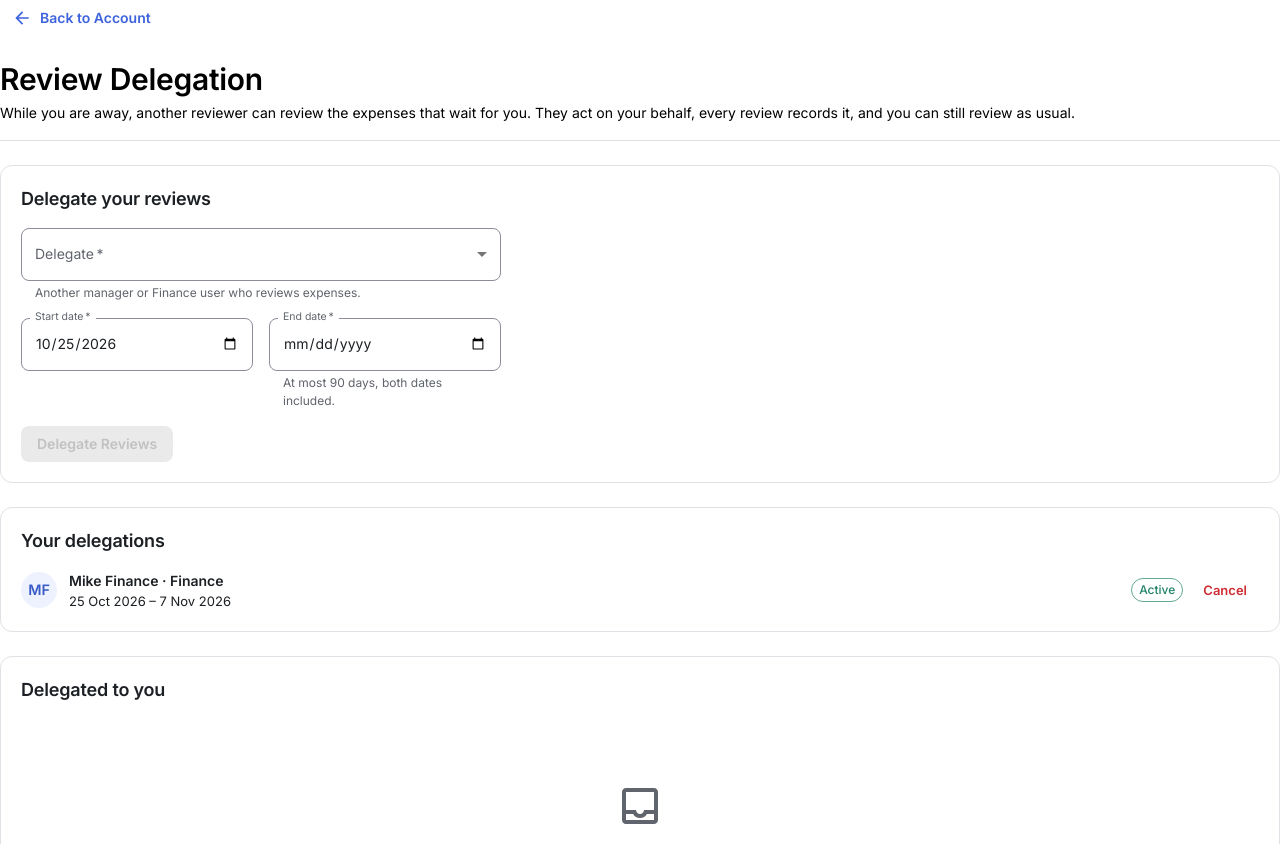
Scenario: ReviewDelegationPage › cancels a delegation after a destructive confirmation
Expected: the dropdown named "Delegate" is shown, [21,228,501,281]
What coordinates should you click on to do the following:
click the button "Cancel"
I would click on:
 (1225, 590)
Its box is [1191,575,1259,606].
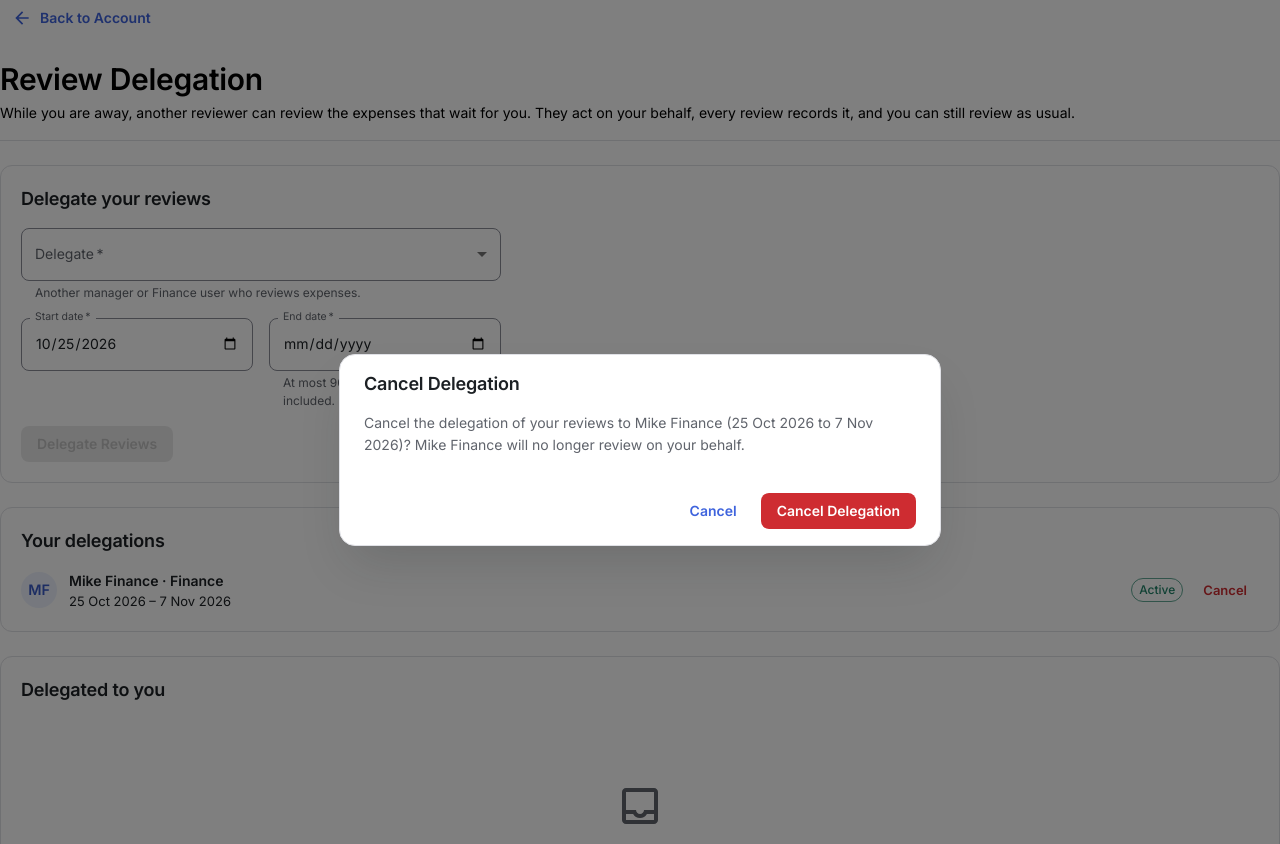
Result: the dialog "Cancel Delegation" shows "Mike Finance will no longer review on your behalf." at [364,414,873,453]
What coordinates should you click on to do the following:
click the button "Cancel Delegation"
I would click on:
 (838, 511)
Its box is [761,493,916,529].
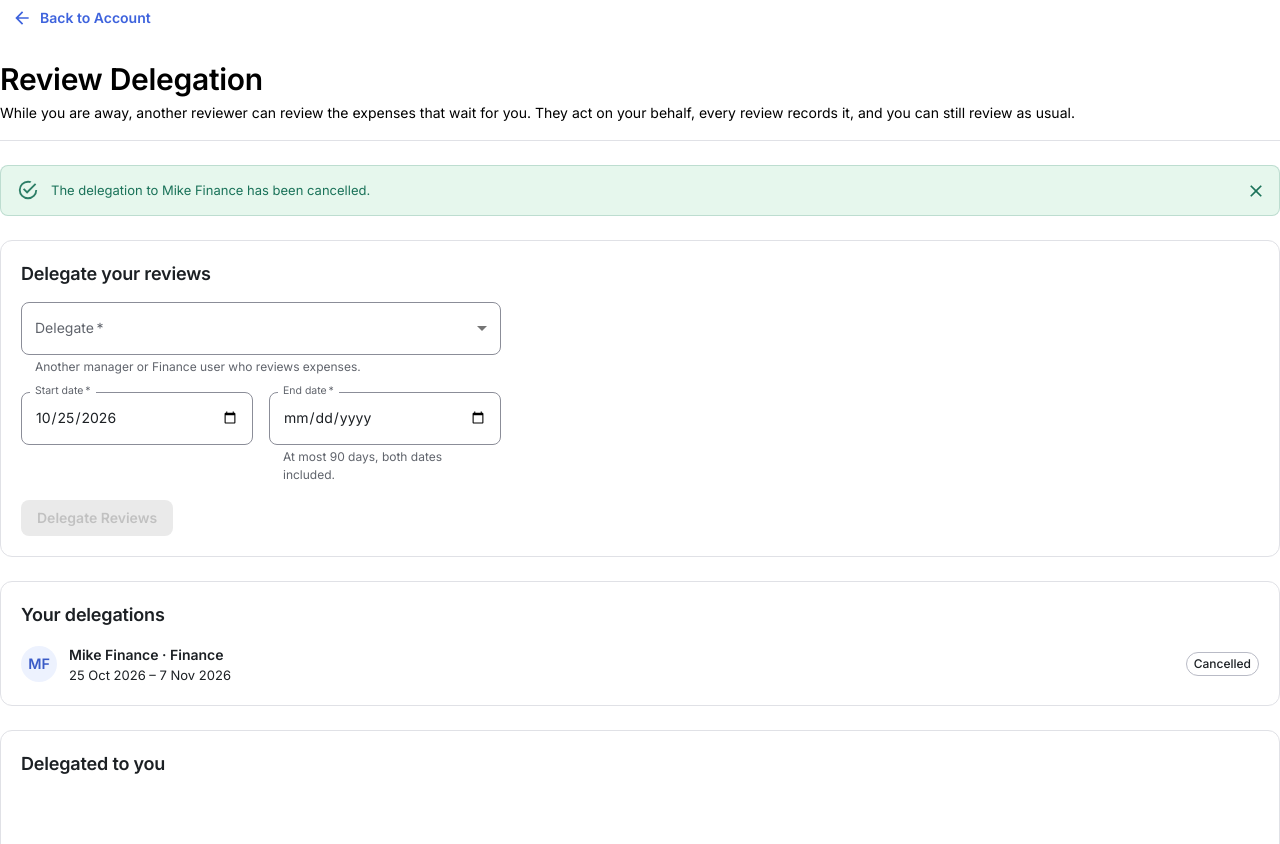
Result: the text "The delegation to Mike Finance has been cancelled." is shown at [51,182,370,198]
Result: the text "Cancelled" is shown at [1194,656,1251,671]
